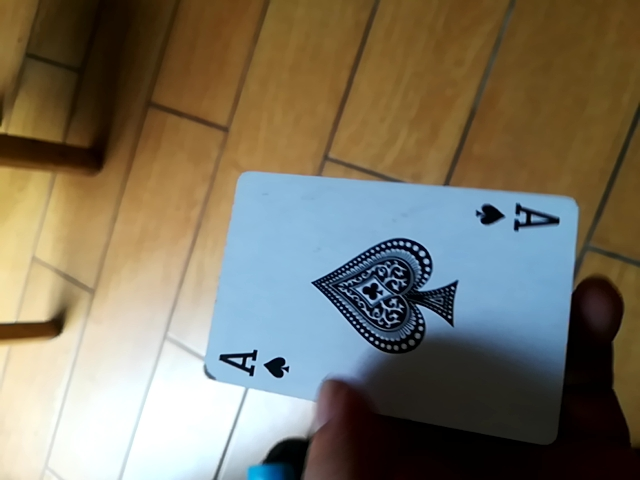ht a: (196, 172, 584, 439)
